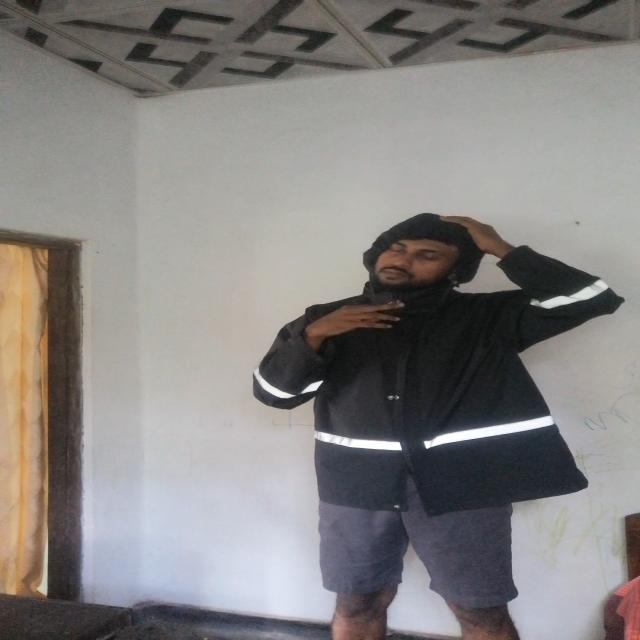Jacket_Wearer: (249, 209, 636, 500)
